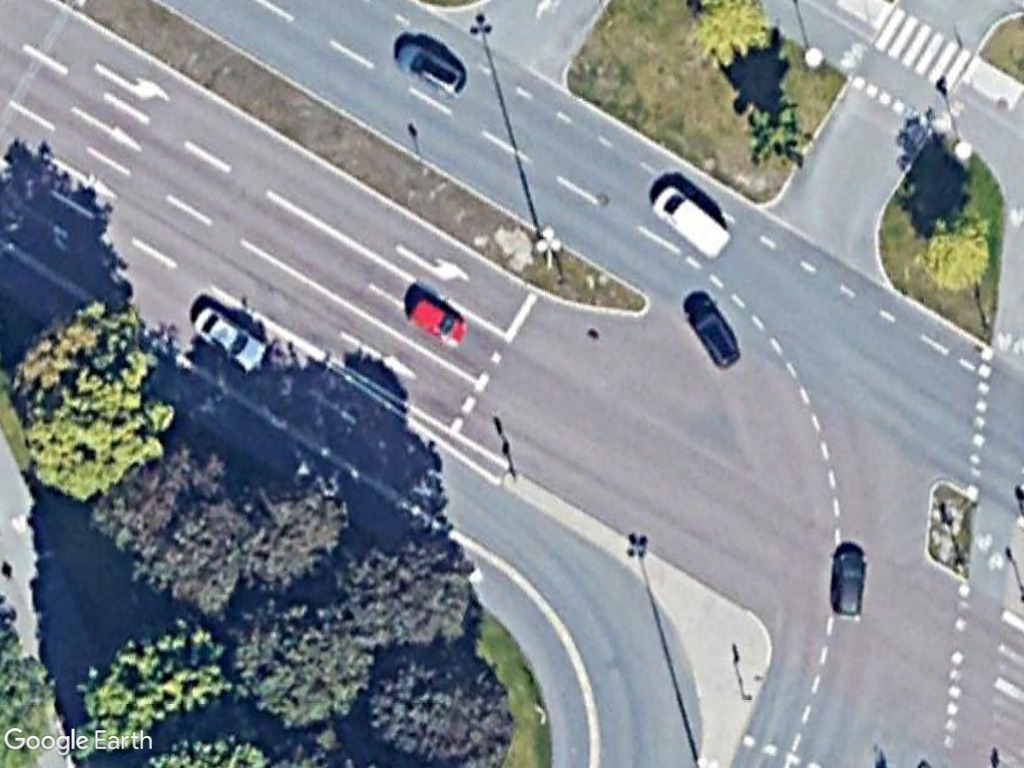car: (187, 305, 272, 376), (392, 35, 470, 103), (681, 293, 745, 372), (403, 290, 477, 351), (828, 541, 869, 623)
van: (646, 177, 740, 263)
